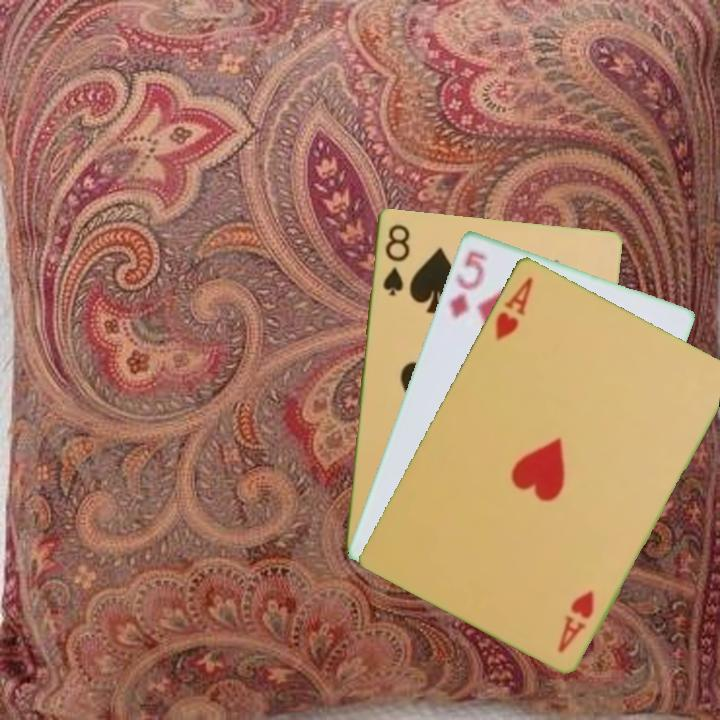5d: (446, 246, 491, 321)
8s: (379, 220, 413, 298)
Ah: (491, 272, 536, 343), (554, 586, 597, 655)
